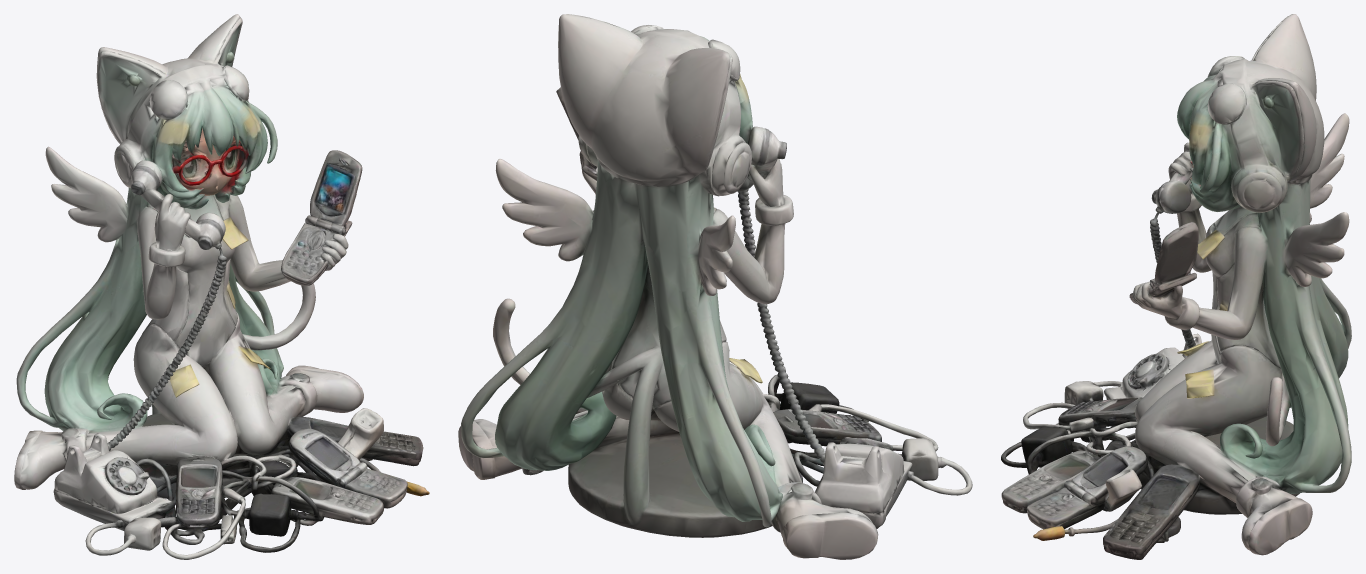
File: chef-catgirl.glb
3 renders of one model, left to right at view 1: azimuth 30°, elevation 25°; view 2: azimuth 150°, elevation 25°; view 3: azimuth 270°, elevation 25°, orthographic. The views are drawn at different scales.
Parts seen in each view (by area): view 1: tripo_node_30375336-f236-4ab1-92fa-b4fb60829648; view 2: tripo_node_30375336-f236-4ab1-92fa-b4fb60829648; view 3: tripo_node_30375336-f236-4ab1-92fa-b4fb60829648.
Boxes of the visible parts, left/top/right/bottom form: tripo_node_30375336-f236-4ab1-92fa-b4fb60829648: left=14, top=14, right=429, bottom=559; tripo_node_30375336-f236-4ab1-92fa-b4fb60829648: left=458, top=14, right=972, bottom=559; tripo_node_30375336-f236-4ab1-92fa-b4fb60829648: left=1001, top=14, right=1351, bottom=559.
Size of the model in its own units: 0.8738 by 0.9789 by 0.7277.
1 material, 1 textured.
